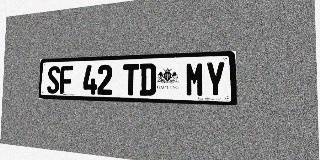2: (97, 64, 112, 95)
4: (83, 65, 97, 95)
D: (139, 63, 156, 96)
F: (60, 66, 73, 94)
M: (185, 62, 205, 97)
S: (47, 66, 60, 94)
T: (123, 64, 139, 95)
Y: (205, 61, 226, 97)
